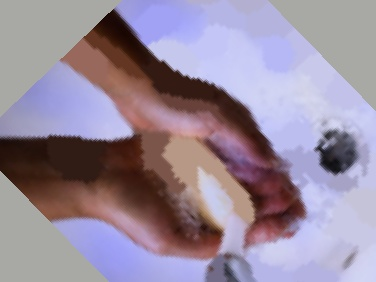washing hand: (10, 0, 375, 281)
